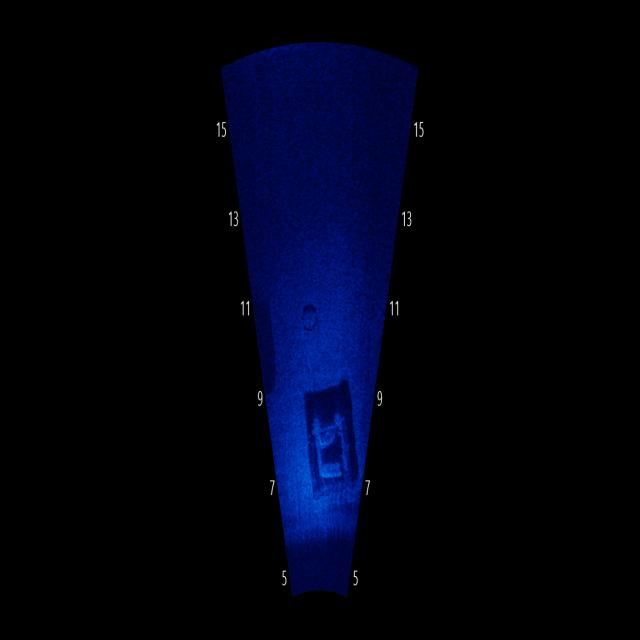square: (306, 386, 362, 516), (248, 288, 284, 408)
